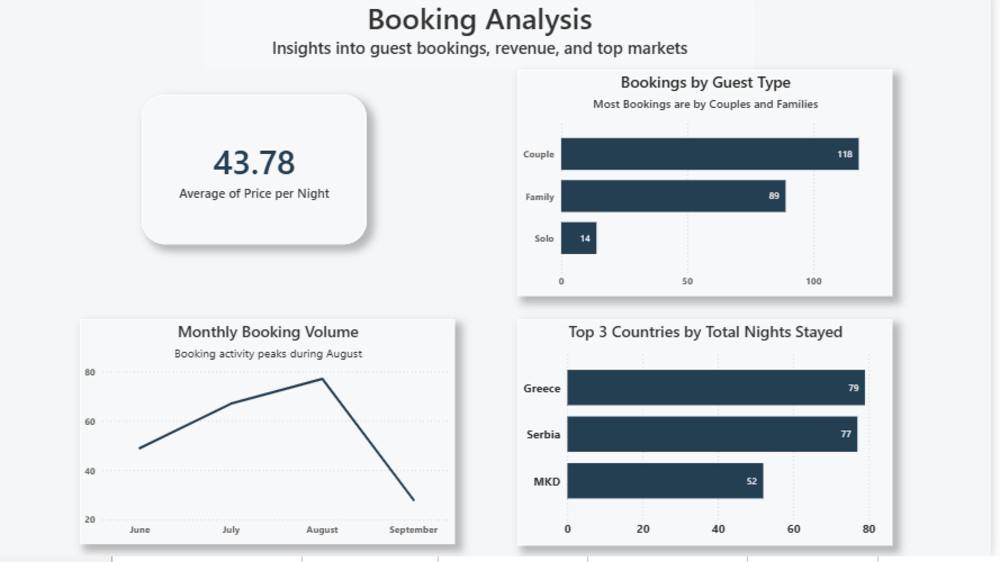

This screenshot's page, from the dashboard's own definition file:
{"tool":"powerbi","page":{"name":"Booking Analysis","canvas":[1280,720],"ordinal":2},"visuals":[{"type":"card","fields":{"Values":["Avg(Bookings.Price per Night)"]},"box":[192,128,288,192],"z":0},{"type":"lineChart","title":"Monthly Booking Volume","fields":{"Category":["Bookings.Month Name"],"Y":["CountNonNull(Bookings.Booking ID)"]},"box":[112,416,480,288],"z":1000},{"type":"clusteredBarChart","title":"Bookings by Guest Type","fields":{"Y":["CountNonNull(Bookings.Booking ID)"],"Category":["Bookings.Guest Type"]},"box":[672,96,480,290],"z":2000},{"type":"clusteredBarChart","title":"Top 3 Countries by Total Nights Stayed","fields":{"Category":["Bookings.Guest Nationality"],"Y":["CountNonNull(Bookings.Nights Stayed)"]},"box":[672,416,480,290],"z":3000},{"type":"textbox","box":[272,0,704,96],"z":4000}]}

Visuals, with their boxes in screenshot pixels (x1, y1, x2, y2), scaled from the page's 1280x720 canvas onto the 1000x562 screenshot:
card - Avg(Bookings.Price per Night): 150,100,375,250
"Monthly Booking Volume" lineChart: 88,325,462,550
"Bookings by Guest Type" clusteredBarChart: 525,75,900,301
"Top 3 Countries by Total Nights Stayed" clusteredBarChart: 525,325,900,551
textbox: 212,0,762,75
